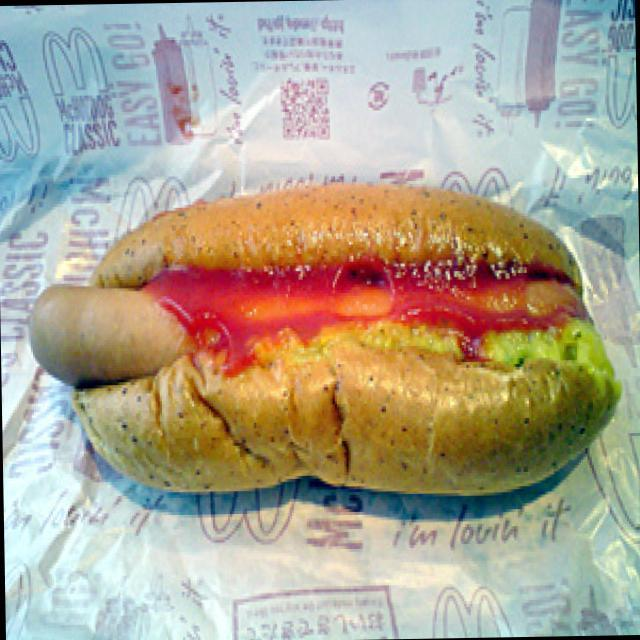Hot Dog: (19, 176, 620, 508)
